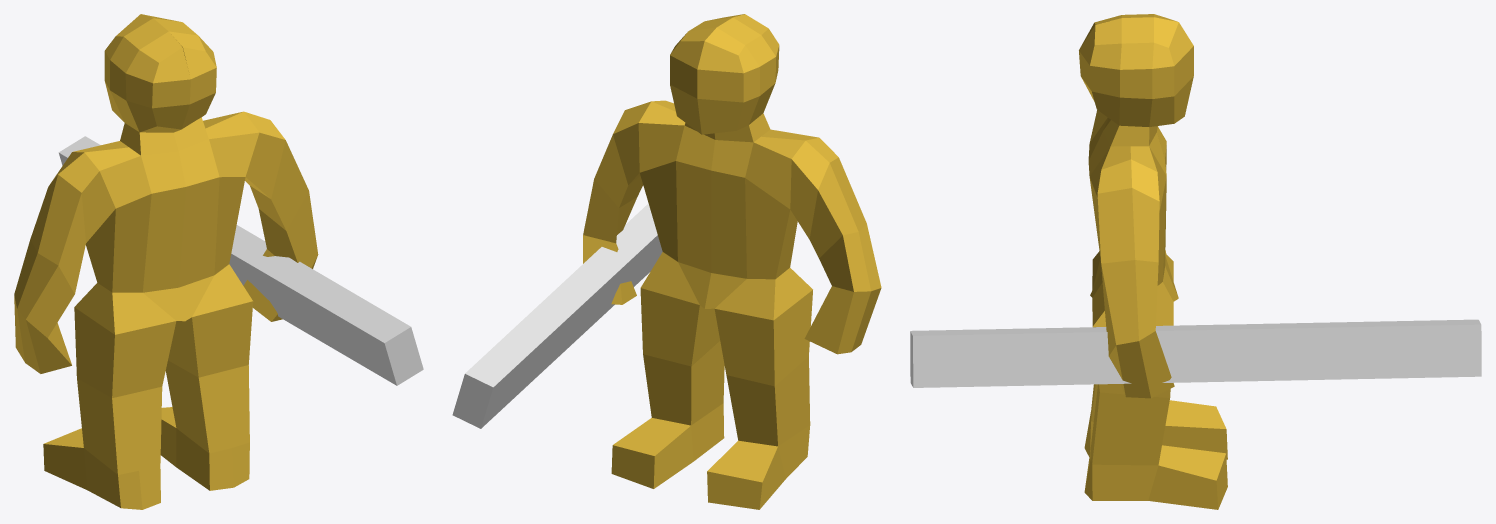
File: engineer.glb
3 views of the same model, side by side, from view 1: azimuth 30°, elevation 25°; view 2: azimuth 150°, elevation 25°; view 3: azimuth 270°, elevation 25° (orthographic). The views are drawn at different scales.
Parts seen in each view (by area): view 1: Cube.001, Cube; view 2: Cube.001, Cube; view 3: Cube.001, Cube.
Boxes of the visible parts, <box> form: Cube.001: <box>14,14,318,509</box>; Cube: <box>58,136,423,385</box>; Cube.001: <box>583,14,881,509</box>; Cube: <box>452,203,662,428</box>; Cube.001: <box>1079,14,1227,509</box>; Cube: <box>910,319,1481,387</box>.
Size of the model in its own units: 1.46 by 2.14 by 2.43.
